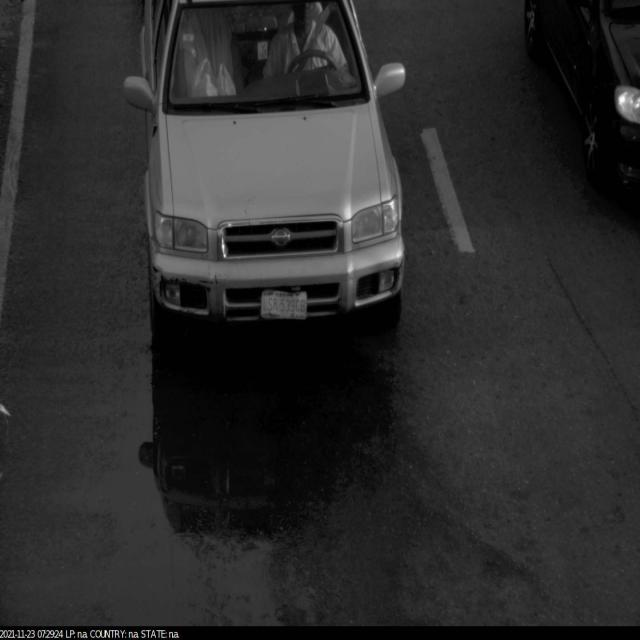windshield: (154, 0, 376, 126)
